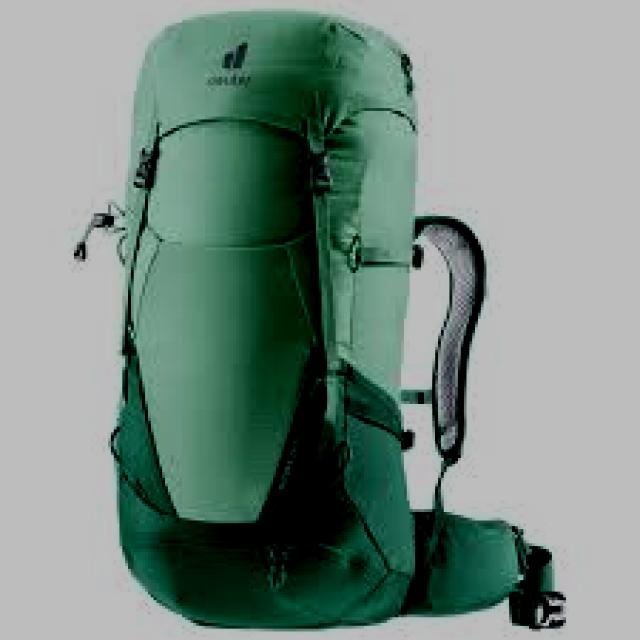backpack: (72, 7, 567, 633)
